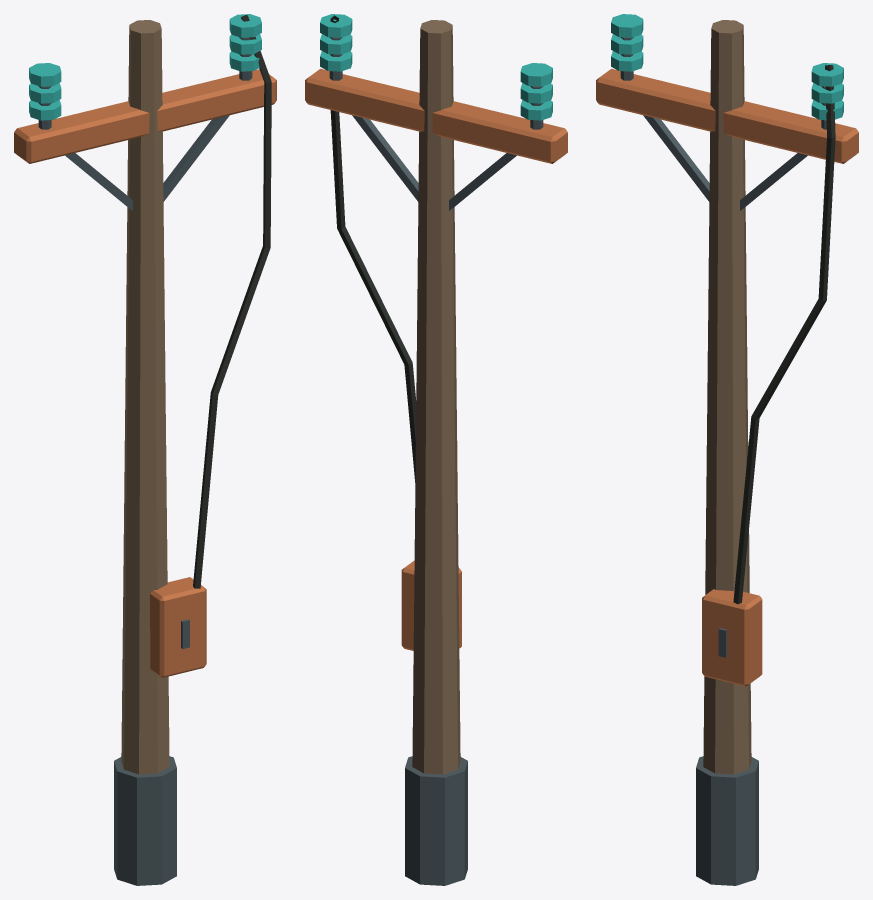
The model's file is SM_PowerPole.fbx.
3 views of the same model, side by side, from view 1: azimuth 30°, elevation 25°; view 2: azimuth 150°, elevation 25°; view 3: azimuth 330°, elevation 25° (orthographic).
Visible parts, largest first — view 1: SM_PowerPole; view 2: SM_PowerPole; view 3: SM_PowerPole.
Part boxes in pixels (left/top/right/bottom): SM_PowerPole: left=14, top=14, right=276, bottom=885; SM_PowerPole: left=305, top=14, right=567, bottom=885; SM_PowerPole: left=596, top=14, right=858, bottom=885.
Bounding box in the file's own units: 1.55 × 0.422 × 5.
